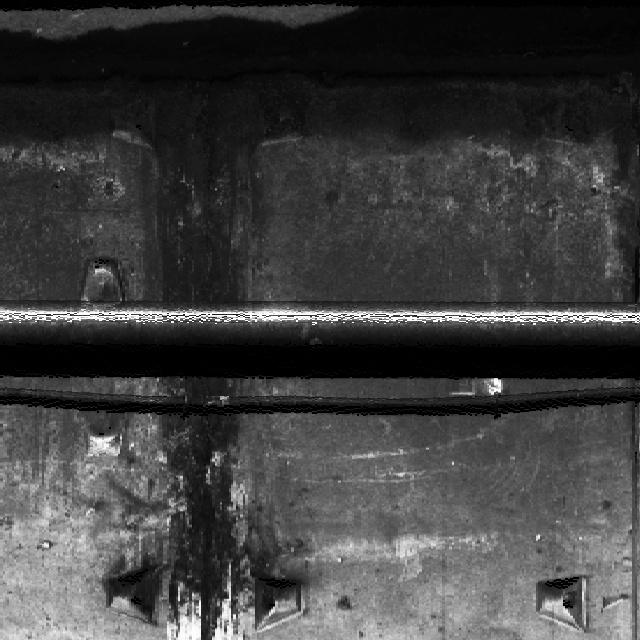leakage: (109, 7, 293, 308), (299, 0, 536, 157), (137, 368, 273, 639), (542, 0, 637, 306), (0, 24, 105, 148)
